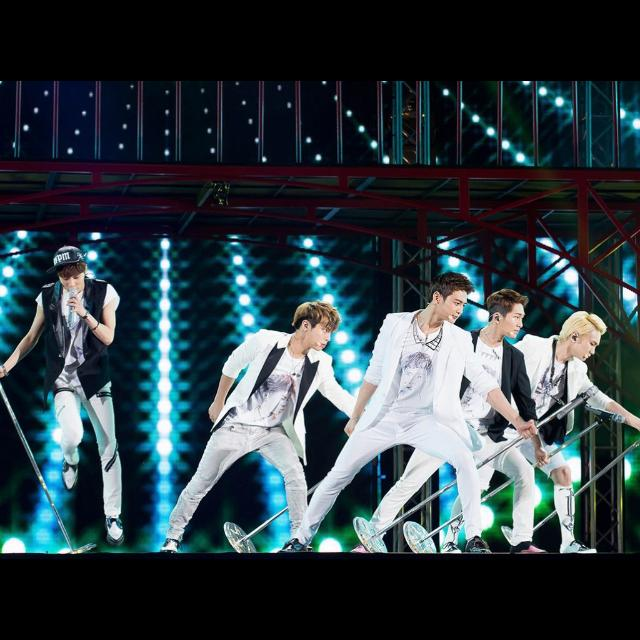head: (560, 312, 604, 364), (432, 272, 471, 326), (296, 302, 338, 352), (489, 289, 527, 341), (55, 254, 89, 296)
person: (157, 295, 381, 559), (0, 244, 130, 552)
